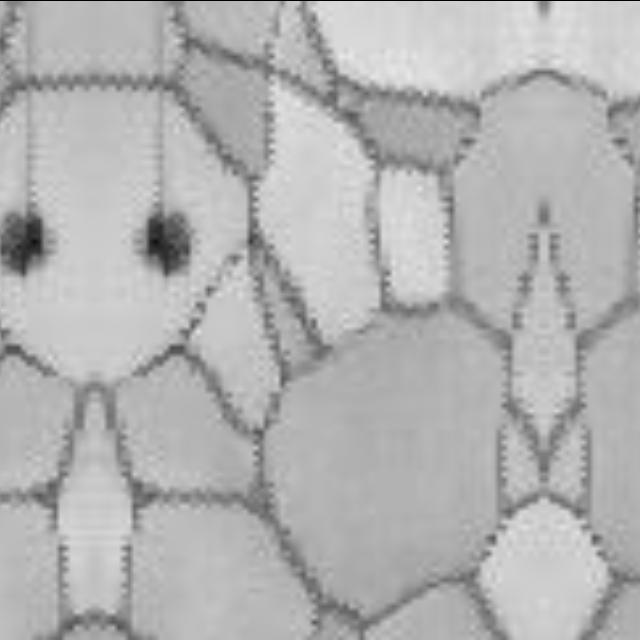good_void: (133, 201, 206, 278), (0, 201, 58, 278)
